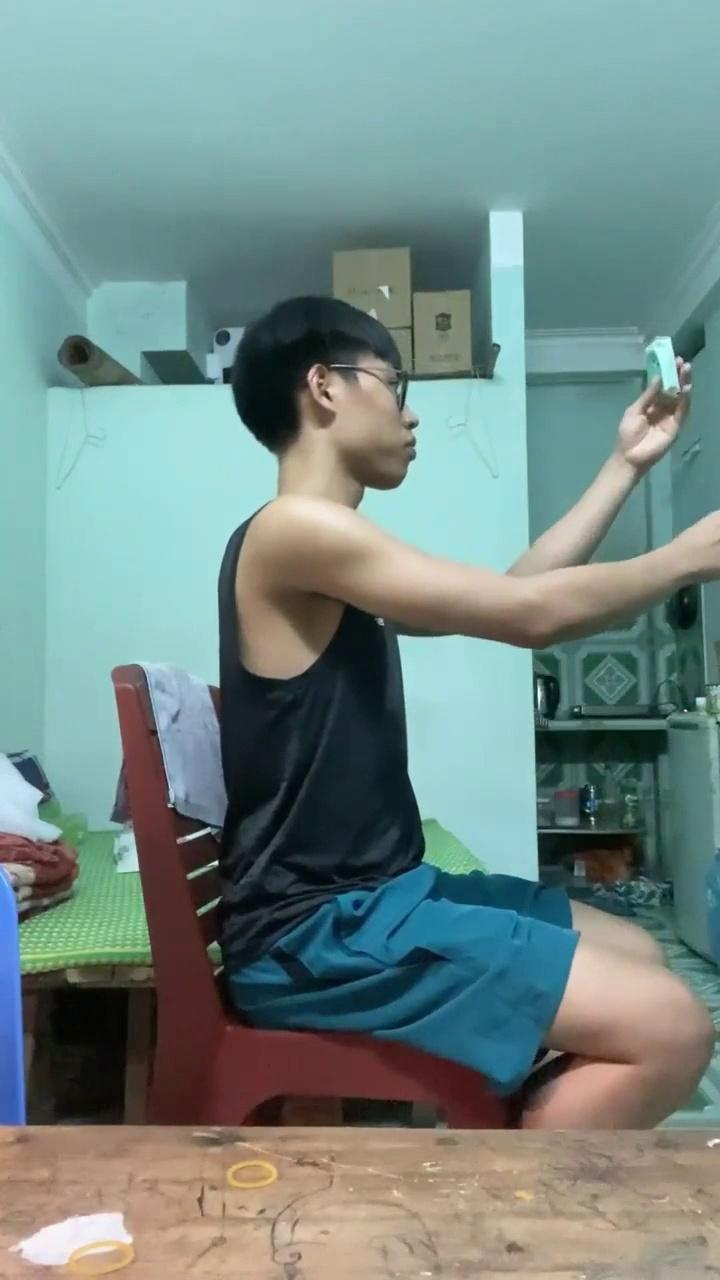GoodPosture: (218, 297, 719, 1127)
